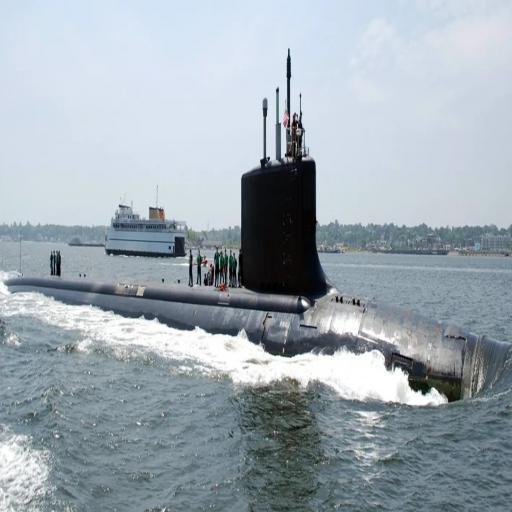submarine: (2, 36, 512, 410)
